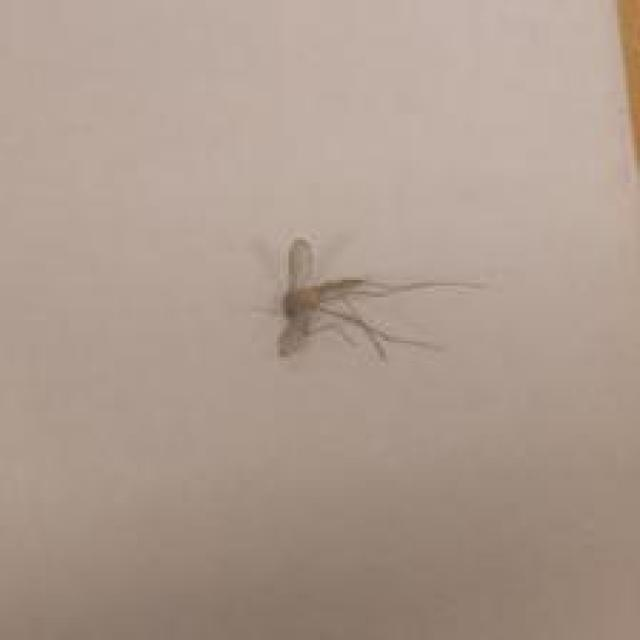Culex: (253, 236, 487, 364)
